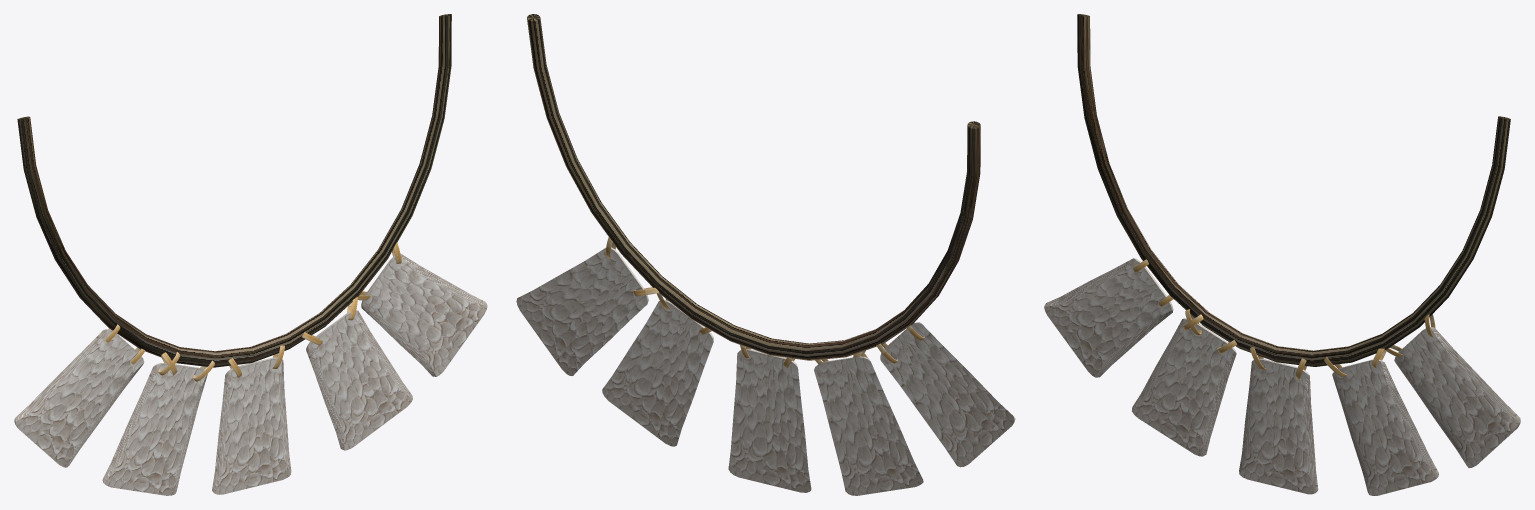
File: necklace.FBX
3 renders of one model, left to right at view 1: azimuth 30°, elevation 25°; view 2: azimuth 150°, elevation 25°; view 3: azimuth 330°, elevation 25°, orthographic. The views are drawn at different scales.
Parts seen in each view (by area): view 1: Box005, Torus001, Torus011; view 2: Box005, Torus001, Torus011; view 3: Box005, Torus001, Torus011.
Boxes of the visible parts, x1,y1,x2,y2 form: Box005: (14, 253, 487, 495); Torus001: (17, 14, 451, 367); Torus011: (105, 242, 401, 381); Box005: (516, 247, 1015, 495); Torus001: (527, 14, 980, 360); Torus011: (605, 237, 924, 367); Box005: (1044, 258, 1520, 495); Torus001: (1077, 14, 1510, 366); Torus011: (1133, 259, 1435, 379).
Size of the model in its own units: 46.14 by 38.07 by 3.78.
